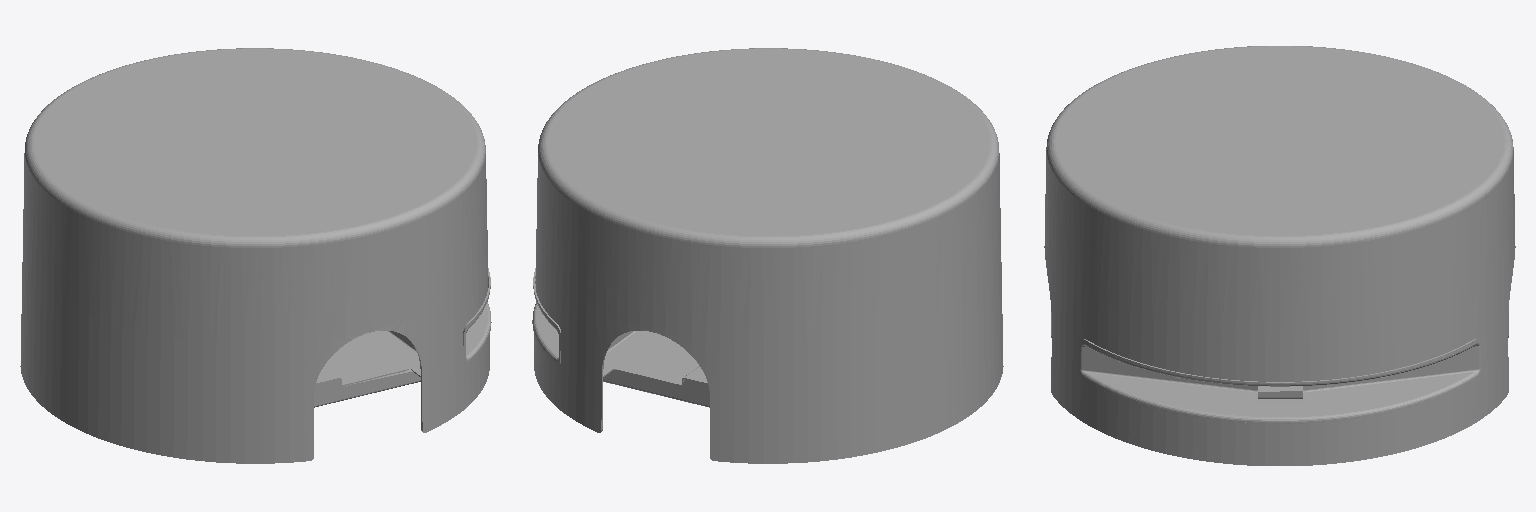
URDF robot description (ur5):
<?xml version="1.0" ?>
<!-- =================================================================================== -->
<!-- |    This document was autogenerated by xacro from [local-path]/Workspace/mujoco_ws/src/mujoco_robots/universal_robot/ur_description/urdf/ur5_robot.urdf.xacro | -->
<!-- |    EDITING THIS FILE BY HAND IS NOT RECOMMENDED                                 | -->
<!-- =================================================================================== -->
<robot name="ur5">
    <mujoco>
        <compiler meshdir="ur5/meshes" strippath="false" balanceinertia="true" discardvisual="true"/>
    </mujoco>
    <!-- common stuff -->
    <!-- <xacro:include filename="$(find ur_description)/urdf/common.gazebo.xacro" /> -->
    <!-- measured from model -->
    <!--property name="shoulder_height" value="0.089159" /-->
    <!--property name="shoulder_offset" value="0.13585" /-->
    <!-- shoulder_offset - elbow_offset + wrist_1_length = 0.10915 -->
    <!--property name="upper_arm_length" value="0.42500" /-->
    <!--property name="elbow_offset" value="0.1197" /-->
    <!-- CAD measured -->
    <!--property name="forearm_length" value="0.39225" /-->
    <!--property name="wrist_1_length" value="0.093" /-->
    <!-- CAD measured -->
    <!--property name="wrist_2_length" value="0.09465" /-->
    <!-- In CAD this distance is 0.930, but in the spec it is 0.09465 -->
    <!--property name="wrist_3_length" value="0.0823" /-->
    <!-- manually measured -->
    <link name="base_link">
        <visual>
            <geometry>
                <mesh filename="package://ur_description/meshes/ur5/visual/base.dae"/>
            </geometry>
            <material name="LightGrey">
                <color rgba="0.7 0.7 0.7 1.0"/>
            </material>
        </visual>
        <collision>
            <geometry>
                <mesh filename="base.stl"/>
            </geometry>
        </collision>
        <inertial>
            <mass value="4.0"/>
            <origin rpy="0 0 0" xyz="0.0 0.0 0.0"/>
            <inertia ixx="0.00443333156" ixy="0.0" ixz="0.0" iyy="0.00443333156" iyz="0.0" izz="0.0072"/>
        </inertial>
    </link>
    <joint name="shoulder_pan_joint" type="revolute">
        <parent link="base_link"/>
        <child link="shoulder_link"/>
        <origin rpy="0.0 0.0 0.0" xyz="0.0 0.0 0.089159"/>
        <axis xyz="0 0 1"/>
        <limit effort="150.0" lower="-6.283185307179586" upper="6.283185307179586" velocity="3.15"/>
        <dynamics damping="0.0" friction="0.0"/>
    </joint>
    <link name="shoulder_link">
        <visual>
            <geometry>
                <mesh filename="package://ur_description/meshes/ur5/visual/shoulder.dae"/>
            </geometry>
            <material name="LightGrey">
                <color rgba="0.7 0.7 0.7 1.0"/>
            </material>
        </visual>
        <collision>
            <geometry>
                <mesh filename="shoulder.stl"/>
            </geometry>
        </collision>
        <inertial>
            <mass value="3.7"/>
            <origin rpy="0 0 0" xyz="0.0 0.0 0.0"/>
            <inertia ixx="0.010267495893" ixy="0.0" ixz="0.0" iyy="0.010267495893" iyz="0.0" izz="0.00666"/>
        </inertial>
    </link>
    <joint name="shoulder_lift_joint" type="revolute">
        <parent link="shoulder_link"/>
        <child link="upper_arm_link"/>
        <origin rpy="0.0 1.5707963267948966 0.0" xyz="0.0 0.13585 0.0"/>
        <axis xyz="0 1 0"/>
        <limit effort="150.0" lower="-6.283185307179586" upper="6.283185307179586" velocity="3.15"/>
        <dynamics damping="0.0" friction="0.0"/>
    </joint>
    <link name="upper_arm_link">
        <visual>
            <geometry>
                <mesh filename="package://ur_description/meshes/ur5/visual/upperarm.dae"/>
            </geometry>
            <material name="LightGrey">
                <color rgba="0.7 0.7 0.7 1.0"/>
            </material>
        </visual>
        <collision>
            <geometry>
                <mesh filename="upperarm.stl"/>
            </geometry>
        </collision>
        <inertial>
            <mass value="8.393"/>
            <origin rpy="0 0 0" xyz="0.0 0.0 0.28"/>
            <inertia ixx="0.22689067591036005" ixy="0.0" ixz="0.0" iyy="0.22689067591036005" iyz="0.0" izz="0.0151074"/>
        </inertial>
    </link>
    <joint name="elbow_joint" type="revolute">
        <parent link="upper_arm_link"/>
        <child link="forearm_link"/>
        <origin rpy="0.0 0.0 0.0" xyz="0.0 -0.1197 0.425"/>
        <axis xyz="0 1 0"/>
        <limit effort="150.0" lower="-3.141592653589793" upper="3.141592653589793" velocity="3.15"/>
        <dynamics damping="0.0" friction="0.0"/>
    </joint>
    <link name="forearm_link">
        <visual>
            <geometry>
                <mesh filename="package://ur_description/meshes/ur5/visual/forearm.dae"/>
            </geometry>
            <material name="LightGrey">
                <color rgba="0.7 0.7 0.7 1.0"/>
            </material>
        </visual>
        <collision>
            <geometry>
                <mesh filename="forearm.stl"/>
            </geometry>
        </collision>
        <inertial>
            <mass value="2.275"/>
            <origin rpy="0 0 0" xyz="0.0 0.0 0.196125"/>
            <inertia ixx="0.03121679102890359" ixy="0.0" ixz="0.0" iyy="0.03121679102890359" iyz="0.0" izz="0.004095"/>
        </inertial>
    </link>
    <joint name="wrist_1_joint" type="revolute">
        <parent link="forearm_link"/>
        <child link="wrist_1_link"/>
        <origin rpy="0.0 1.5707963267948966 0.0" xyz="0.0 0.0 0.39225"/>
        <axis xyz="0 1 0"/>
        <limit effort="28.0" lower="-6.283185307179586" upper="6.283185307179586" velocity="3.2"/>
        <dynamics damping="0.0" friction="0.0"/>
    </joint>
    <link name="wrist_1_link">
        <visual>
            <geometry>
                <mesh filename="package://ur_description/meshes/ur5/visual/wrist1.dae"/>
            </geometry>
            <material name="LightGrey">
                <color rgba="0.7 0.7 0.7 1.0"/>
            </material>
        </visual>
        <collision>
            <geometry>
                <mesh filename="wrist1.stl"/>
            </geometry>
        </collision>
        <inertial>
            <mass value="1.219"/>
            <origin rpy="0 0 0" xyz="0.0 0.093 0.0"/>
            <inertia ixx="0.0025598989760400002" ixy="0.0" ixz="0.0" iyy="0.0025598989760400002" iyz="0.0" izz="0.0021942"/>
        </inertial>
    </link>
    <joint name="wrist_2_joint" type="revolute">
        <parent link="wrist_1_link"/>
        <child link="wrist_2_link"/>
        <origin rpy="0.0 0.0 0.0" xyz="0.0 0.093 0.0"/>
        <axis xyz="0 0 1"/>
        <limit effort="28.0" lower="-6.283185307179586" upper="6.283185307179586" velocity="3.2"/>
        <dynamics damping="0.0" friction="0.0"/>
    </joint>
    <link name="wrist_2_link">
        <visual>
            <geometry>
                <mesh filename="package://ur_description/meshes/ur5/visual/wrist2.dae"/>
            </geometry>
            <material name="LightGrey">
                <color rgba="0.7 0.7 0.7 1.0"/>
            </material>
        </visual>
        <collision>
            <geometry>
                <mesh filename="wrist2.stl"/>
            </geometry>
        </collision>
        <inertial>
            <mass value="1.219"/>
            <origin rpy="0 0 0" xyz="0.0 0.0 0.09465"/>
            <inertia ixx="0.0025598989760400002" ixy="0.0" ixz="0.0" iyy="0.0025598989760400002" iyz="0.0" izz="0.0021942"/>
        </inertial>
    </link>
    <joint name="wrist_3_joint" type="revolute">
        <parent link="wrist_2_link"/>
        <child link="wrist_3_link"/>
        <origin rpy="0.0 0.0 0.0" xyz="0.0 0.0 0.09465"/>
        <axis xyz="0 1 0"/>
        <limit effort="28.0" lower="-6.283185307179586" upper="6.283185307179586" velocity="3.2"/>
        <dynamics damping="0.0" friction="0.0"/>
    </joint>
    <link name="wrist_3_link">
        <visual>
            <geometry>
                <mesh filename="package://ur_description/meshes/ur5/visual/wrist3.dae"/>
            </geometry>
            <material name="LightGrey">
                <color rgba="0.7 0.7 0.7 1.0"/>
            </material>
        </visual>
        <collision>
            <geometry>
                <mesh filename="wrist3.stl"/>
            </geometry>
        </collision>
        <inertial>
            <mass value="0.1879"/>
            <origin rpy="1.5707963267948966 0 0" xyz="0.0 0.06505 0.0"/>
            <inertia ixx="8.469589112163e-05" ixy="0.0" ixz="0.0" iyy="8.469589112163e-05" iyz="0.0" izz="0.0001321171875"/>
        </inertial>
    </link>
    <joint name="ee_fixed_joint" type="fixed">
        <parent link="wrist_3_link"/>
        <child link="ee_link"/>
        <origin rpy="0.0 0.0 1.5707963267948966" xyz="0.0 0.0823 0.0"/>
    </joint>
    <link name="ee_link">
        <collision>
            <geometry>
                <box size="0.01 0.01 0.01"/>
            </geometry>
            <origin rpy="0 0 0" xyz="-0.01 0 0"/>
        </collision>
    </link>
    <transmission name="shoulder_pan_trans">
        <type>transmission_interface/SimpleTransmission</type>
        <joint name="shoulder_pan_joint">
            <hardwareInterface>hardware_interface/PositionJointInterface</hardwareInterface>
        </joint>
        <actuator name="shoulder_pan_motor">
            <mechanicalReduction>1</mechanicalReduction>
        </actuator>
    </transmission>
    <transmission name="shoulder_lift_trans">
        <type>transmission_interface/SimpleTransmission</type>
        <joint name="shoulder_lift_joint">
            <hardwareInterface>hardware_interface/PositionJointInterface</hardwareInterface>
        </joint>
        <actuator name="shoulder_lift_motor">
            <mechanicalReduction>1</mechanicalReduction>
        </actuator>
    </transmission>
    <transmission name="elbow_trans">
        <type>transmission_interface/SimpleTransmission</type>
        <joint name="elbow_joint">
            <hardwareInterface>hardware_interface/PositionJointInterface</hardwareInterface>
        </joint>
        <actuator name="elbow_motor">
            <mechanicalReduction>1</mechanicalReduction>
        </actuator>
    </transmission>
    <transmission name="wrist_1_trans">
        <type>transmission_interface/SimpleTransmission</type>
        <joint name="wrist_1_joint">
            <hardwareInterface>hardware_interface/PositionJointInterface</hardwareInterface>
        </joint>
        <actuator name="wrist_1_motor">
            <mechanicalReduction>1</mechanicalReduction>
        </actuator>
    </transmission>
    <transmission name="wrist_2_trans">
        <type>transmission_interface/SimpleTransmission</type>
        <joint name="wrist_2_joint">
            <hardwareInterface>hardware_interface/PositionJointInterface</hardwareInterface>
        </joint>
        <actuator name="wrist_2_motor">
            <mechanicalReduction>1</mechanicalReduction>
        </actuator>
    </transmission>
    <transmission name="wrist_3_trans">
        <type>transmission_interface/SimpleTransmission</type>
        <joint name="wrist_3_joint">
            <hardwareInterface>hardware_interface/PositionJointInterface</hardwareInterface>
        </joint>
        <actuator name="wrist_3_motor">
            <mechanicalReduction>1</mechanicalReduction>
        </actuator>
    </transmission>
    <gazebo reference="shoulder_link">
        <selfCollide>true</selfCollide>
    </gazebo>
    <gazebo reference="upper_arm_link">
        <selfCollide>true</selfCollide>
    </gazebo>
    <gazebo reference="forearm_link">
        <selfCollide>true</selfCollide>
    </gazebo>
    <gazebo reference="wrist_1_link">
        <selfCollide>true</selfCollide>
    </gazebo>
    <gazebo reference="wrist_3_link">
        <selfCollide>true</selfCollide>
    </gazebo>
    <gazebo reference="wrist_2_link">
        <selfCollide>true</selfCollide>
    </gazebo>
    <gazebo reference="ee_link">
        <selfCollide>true</selfCollide>
    </gazebo>
    <!-- ROS base_link to UR 'Base' Coordinates transform -->
    <link name="base"/>
    <joint name="base_link-base_fixed_joint" type="fixed">
        <!-- NOTE: this rotation is only needed as long as base_link itself is
                 not corrected wrt the real robot (ie: rotated over 180
                 degrees)
      -->
        <origin rpy="0 0 -3.141592653589793" xyz="0 0 0"/>
        <parent link="base_link"/>
        <child link="base"/>
    </joint>
    <!-- Frame coincident with all-zeros TCP on UR controller -->
    <link name="tool0"/>
    <joint name="wrist_3_link-tool0_fixed_joint" type="fixed">
        <origin rpy="-1.5707963267948966 0 0" xyz="0 0.0823 0"/>
        <parent link="wrist_3_link"/>
        <child link="tool0"/>
    </joint>
    <!-- <link name="world" />

  <joint name="world_joint" type="fixed">
    <parent link="world" />
    <child link = "base_link" />
    <origin xyz="0.0 0.0 0.0" rpy="0.0 0.0 0.0" />
  </joint> -->
</robot>

--- Render facts (derived) ---
3 views of the same robot in one strip: view 1: azimuth 30°, elevation 25°; view 2: azimuth 150°, elevation 25°; view 3: azimuth 270°, elevation 25° (orthographic).
Model ur5 with 10 links and 9 joints (6 revolute, 3 fixed), rooted at base_link, posed all joints at 0.
Visible links, largest first — view 1: base_link; view 2: base_link; view 3: base_link.
Link boxes in pixels (<box>): base_link: <box>20,48,491,463</box>; base_link: <box>532,48,1003,463</box>; base_link: <box>1044,46,1515,465</box>.
Size in the robot's own frame: 0.5272 by 0.5205 by 0.274 metres.
Meshes: 7 distinct files referenced, 1 mesh visuals loaded (1 Collada DAE); not drawn: 6 (reference not matched to a file when rendering).